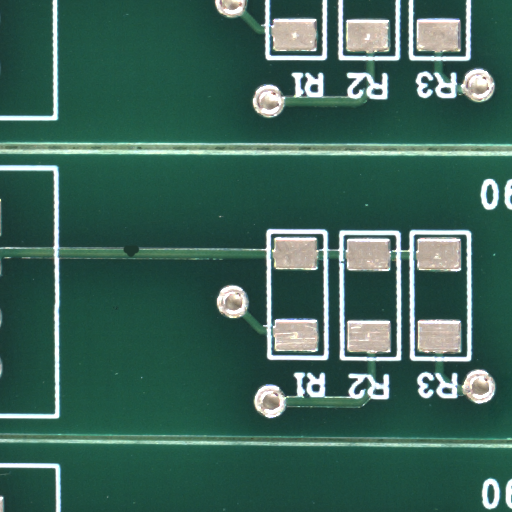Mouse_bite: (131, 252, 146, 263)
